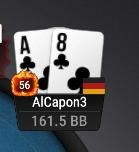8c: (50, 29, 102, 94)
Ac: (12, 30, 50, 93)
